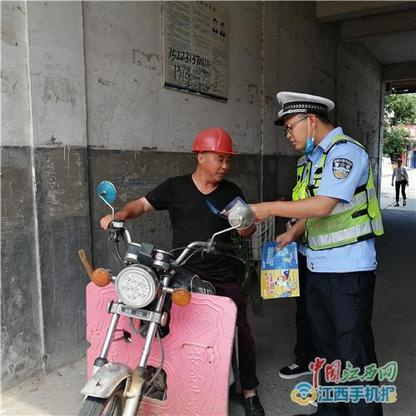target: (81, 126, 264, 412)
